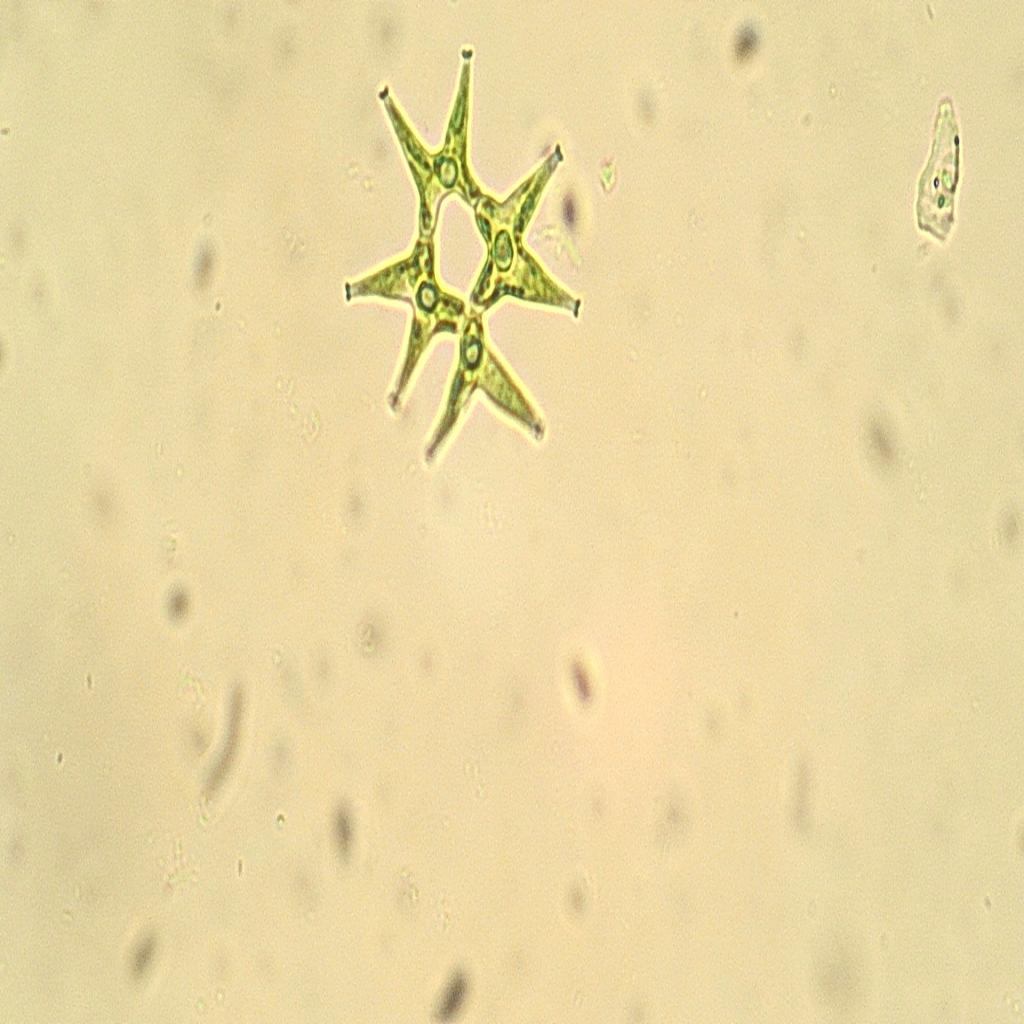Pediastrum_CT: (335, 39, 587, 486)
